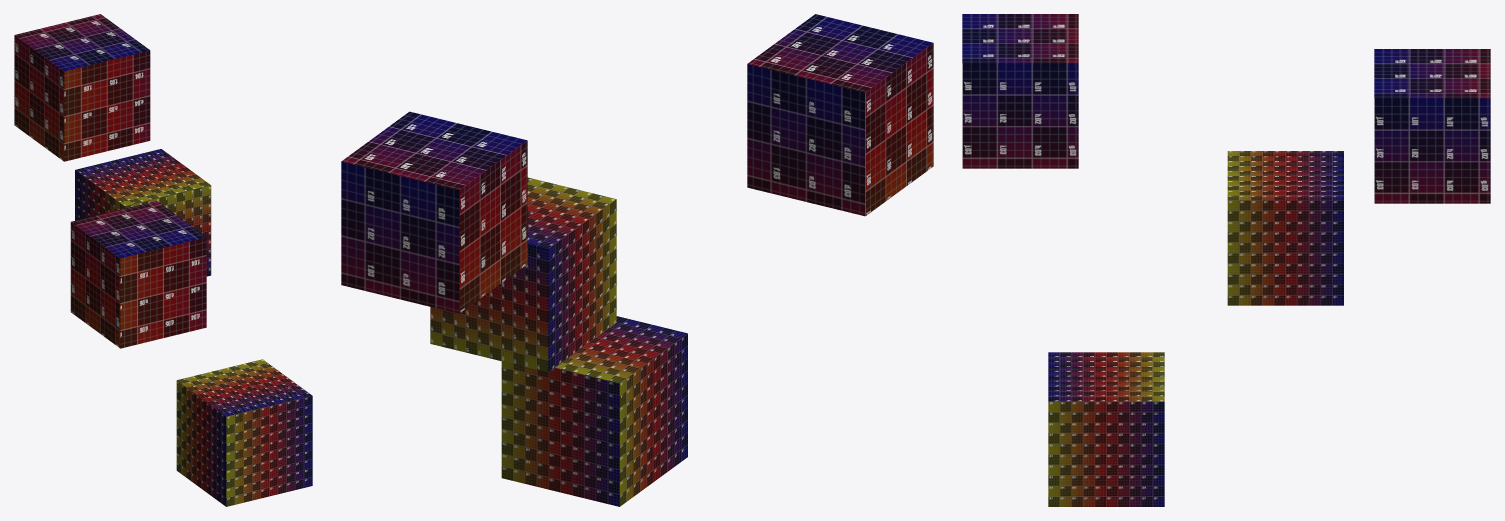
The model's file is instanciasText1.dae.
3 views of the same model, side by side, from view 1: azimuth 30°, elevation 25°; view 2: azimuth 150°, elevation 25°; view 3: azimuth 270°, elevation 25° (orthographic). The views are drawn at different scales.
Parts seen in each view (by area): view 1: cubo2, cubo1, cubo0, cubo; view 2: cubo2, cubo0, cubo1, cubo; view 3: cubo, cubo2, cubo1, cubo0.
Boxes of the visible parts, x1,y1,x2,y2 form: cubo2: [14, 14, 150, 161]; cubo1: [176, 359, 312, 506]; cubo0: [70, 201, 206, 348]; cubo: [75, 149, 211, 276]; cubo2: [341, 111, 527, 313]; cubo0: [747, 14, 933, 216]; cubo1: [501, 316, 687, 506]; cubo: [430, 177, 616, 372]; cubo: [1227, 151, 1343, 305]; cubo2: [1374, 49, 1490, 203]; cubo1: [1048, 352, 1164, 506]; cubo0: [962, 14, 1078, 168].
Bounding box in the file's own units: 5.31 × 9.08 × 7.51.
Materials: 1 (1 with a texture image).
